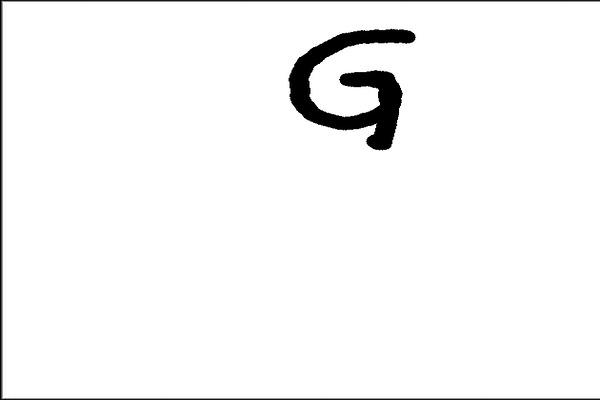G: (283, 23, 420, 154)
